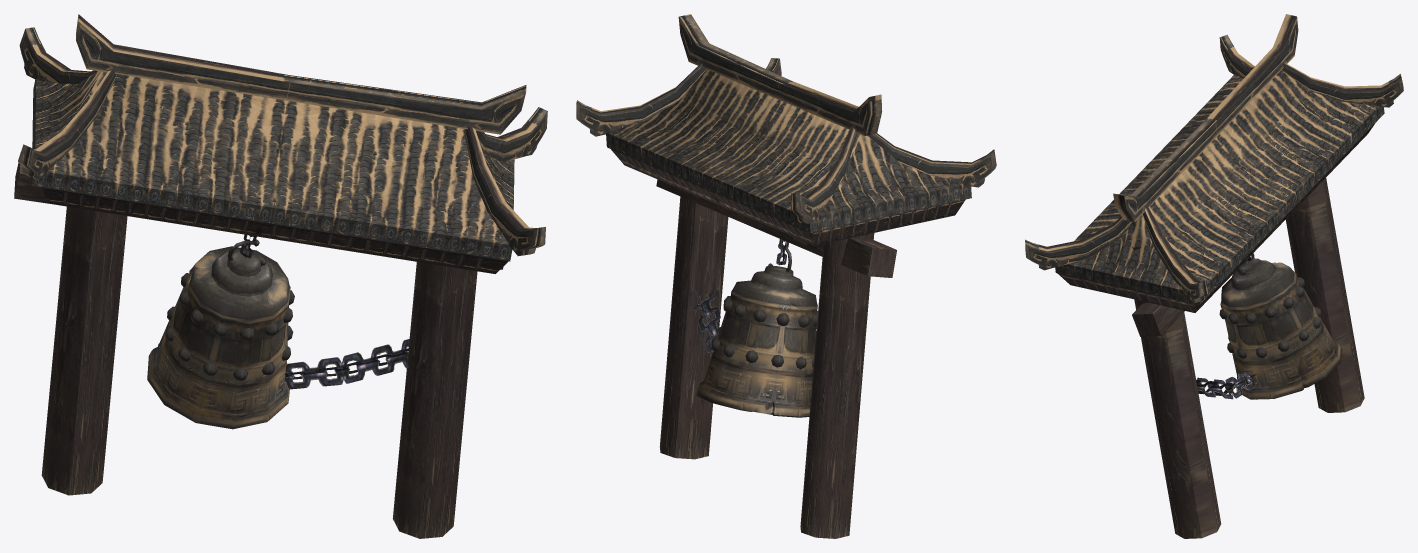
File: sm_diaozhong_2.FBX
3 views of the same model, side by side, from view 1: azimuth 30°, elevation 25°; view 2: azimuth 150°, elevation 25°; view 3: azimuth 270°, elevation 25° (orthographic). The views are drawn at different scales.
Visible parts, largest first — view 1: sm_diaozhong_2; view 2: sm_diaozhong_2; view 3: sm_diaozhong_2.
Boxes of the visible parts, x1,y1,x2,y2 form: sm_diaozhong_2: (14, 14, 547, 538); sm_diaozhong_2: (576, 14, 996, 538); sm_diaozhong_2: (1025, 14, 1403, 538).
Size of the model in its own units: 799 by 800 by 669.
